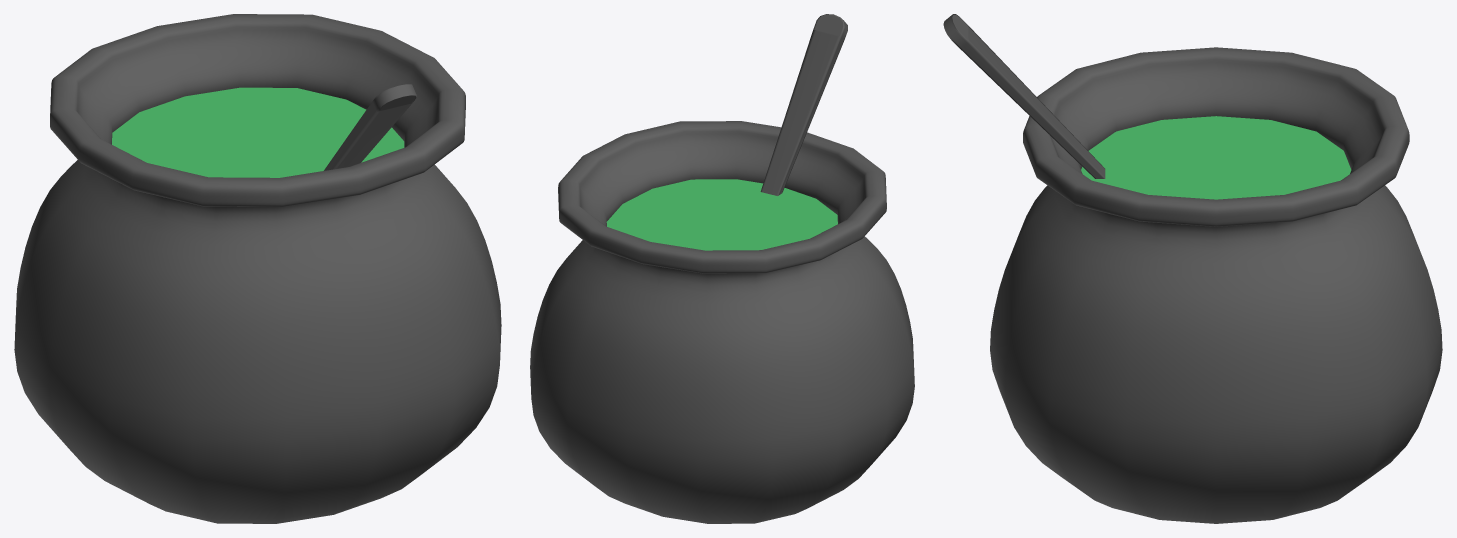
The model's file is cauldronstir.glb.
3 renders of one model, left to right at view 1: azimuth 30°, elevation 25°; view 2: azimuth 150°, elevation 25°; view 3: azimuth 270°, elevation 25°, orthographic. The views are drawn at different scales.
Visible parts, largest first — view 1: pCube1_low, pDisc1_low, pCube2_low; view 2: pCube1_low, pDisc1_low, pCube2_low; view 3: pCube1_low, pDisc1_low, pCube2_low.
Part boxes in pixels (bbox=[...]): pCube1_low: bbox=[14, 14, 501, 523]; pDisc1_low: bbox=[112, 87, 404, 177]; pCube2_low: bbox=[324, 84, 416, 170]; pCube1_low: bbox=[530, 121, 914, 523]; pDisc1_low: bbox=[606, 179, 837, 250]; pCube2_low: bbox=[760, 14, 847, 195]; pCube1_low: bbox=[990, 47, 1442, 523]; pDisc1_low: bbox=[1081, 116, 1351, 199]; pCube2_low: bbox=[943, 14, 1105, 178].
Size of the model in its own units: 0.2072 by 0.2385 by 0.2285.
